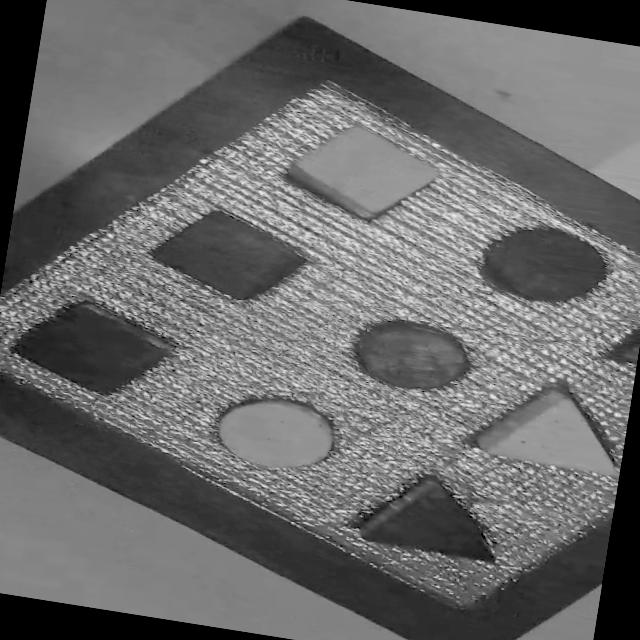bcircle: (460, 212, 625, 315)
bcube: (136, 200, 333, 313)
btriangle: (343, 458, 530, 584)
rcircle: (340, 304, 496, 408)
rcube: (0, 285, 190, 411)
ycircle: (202, 382, 352, 484)
ycube: (273, 106, 459, 238)
ytriangle: (469, 372, 632, 490)
